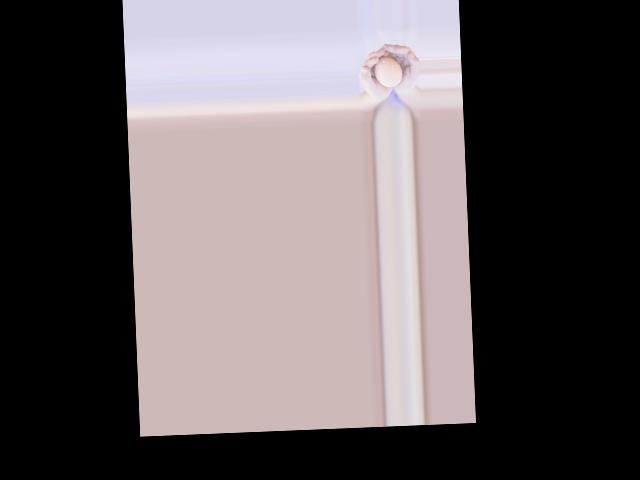egg: (374, 56, 403, 88)
